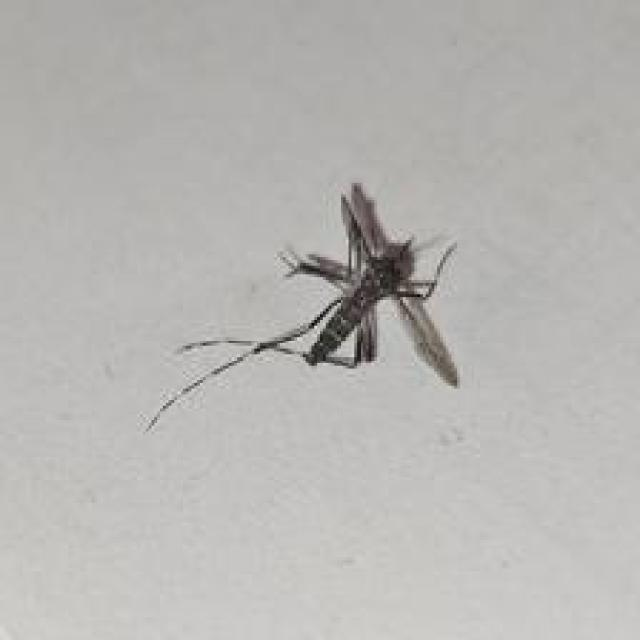Aedes albopictus: (144, 180, 462, 434)
